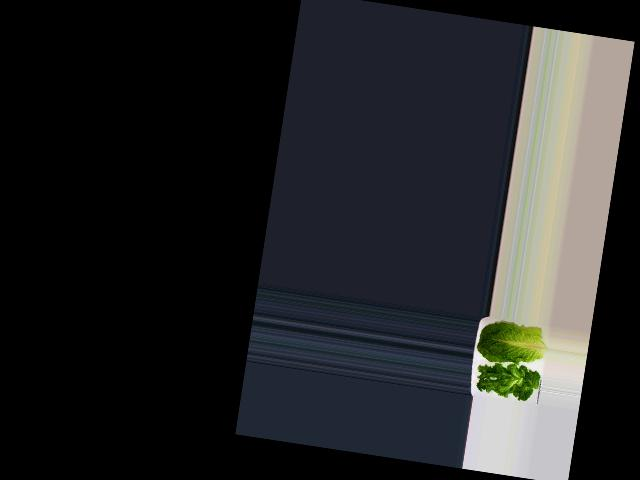lettuce: (473, 360, 539, 406)
